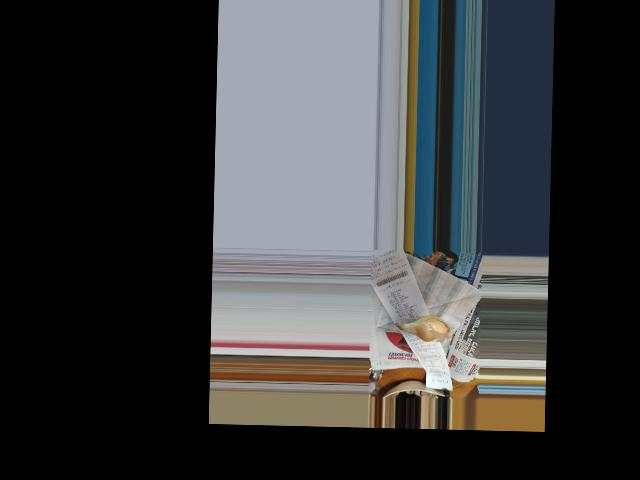onion: (411, 314, 449, 340)
